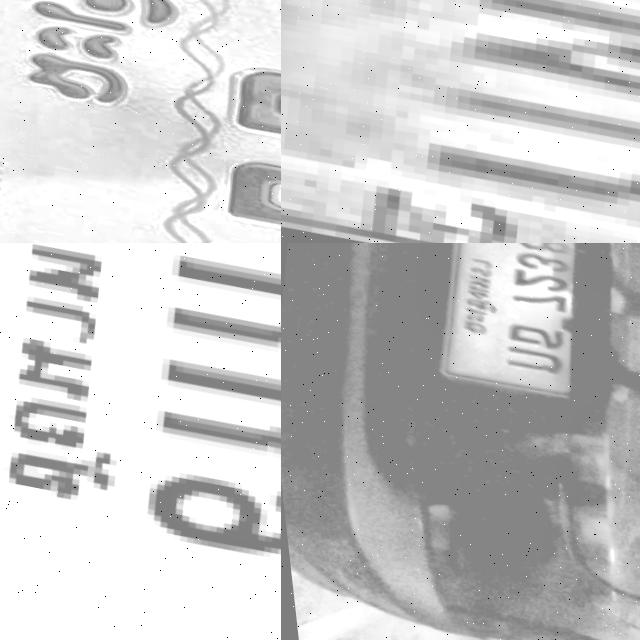license-plate: (0, 243, 281, 640), (281, 0, 640, 243), (0, 0, 281, 243), (436, 243, 574, 395)
